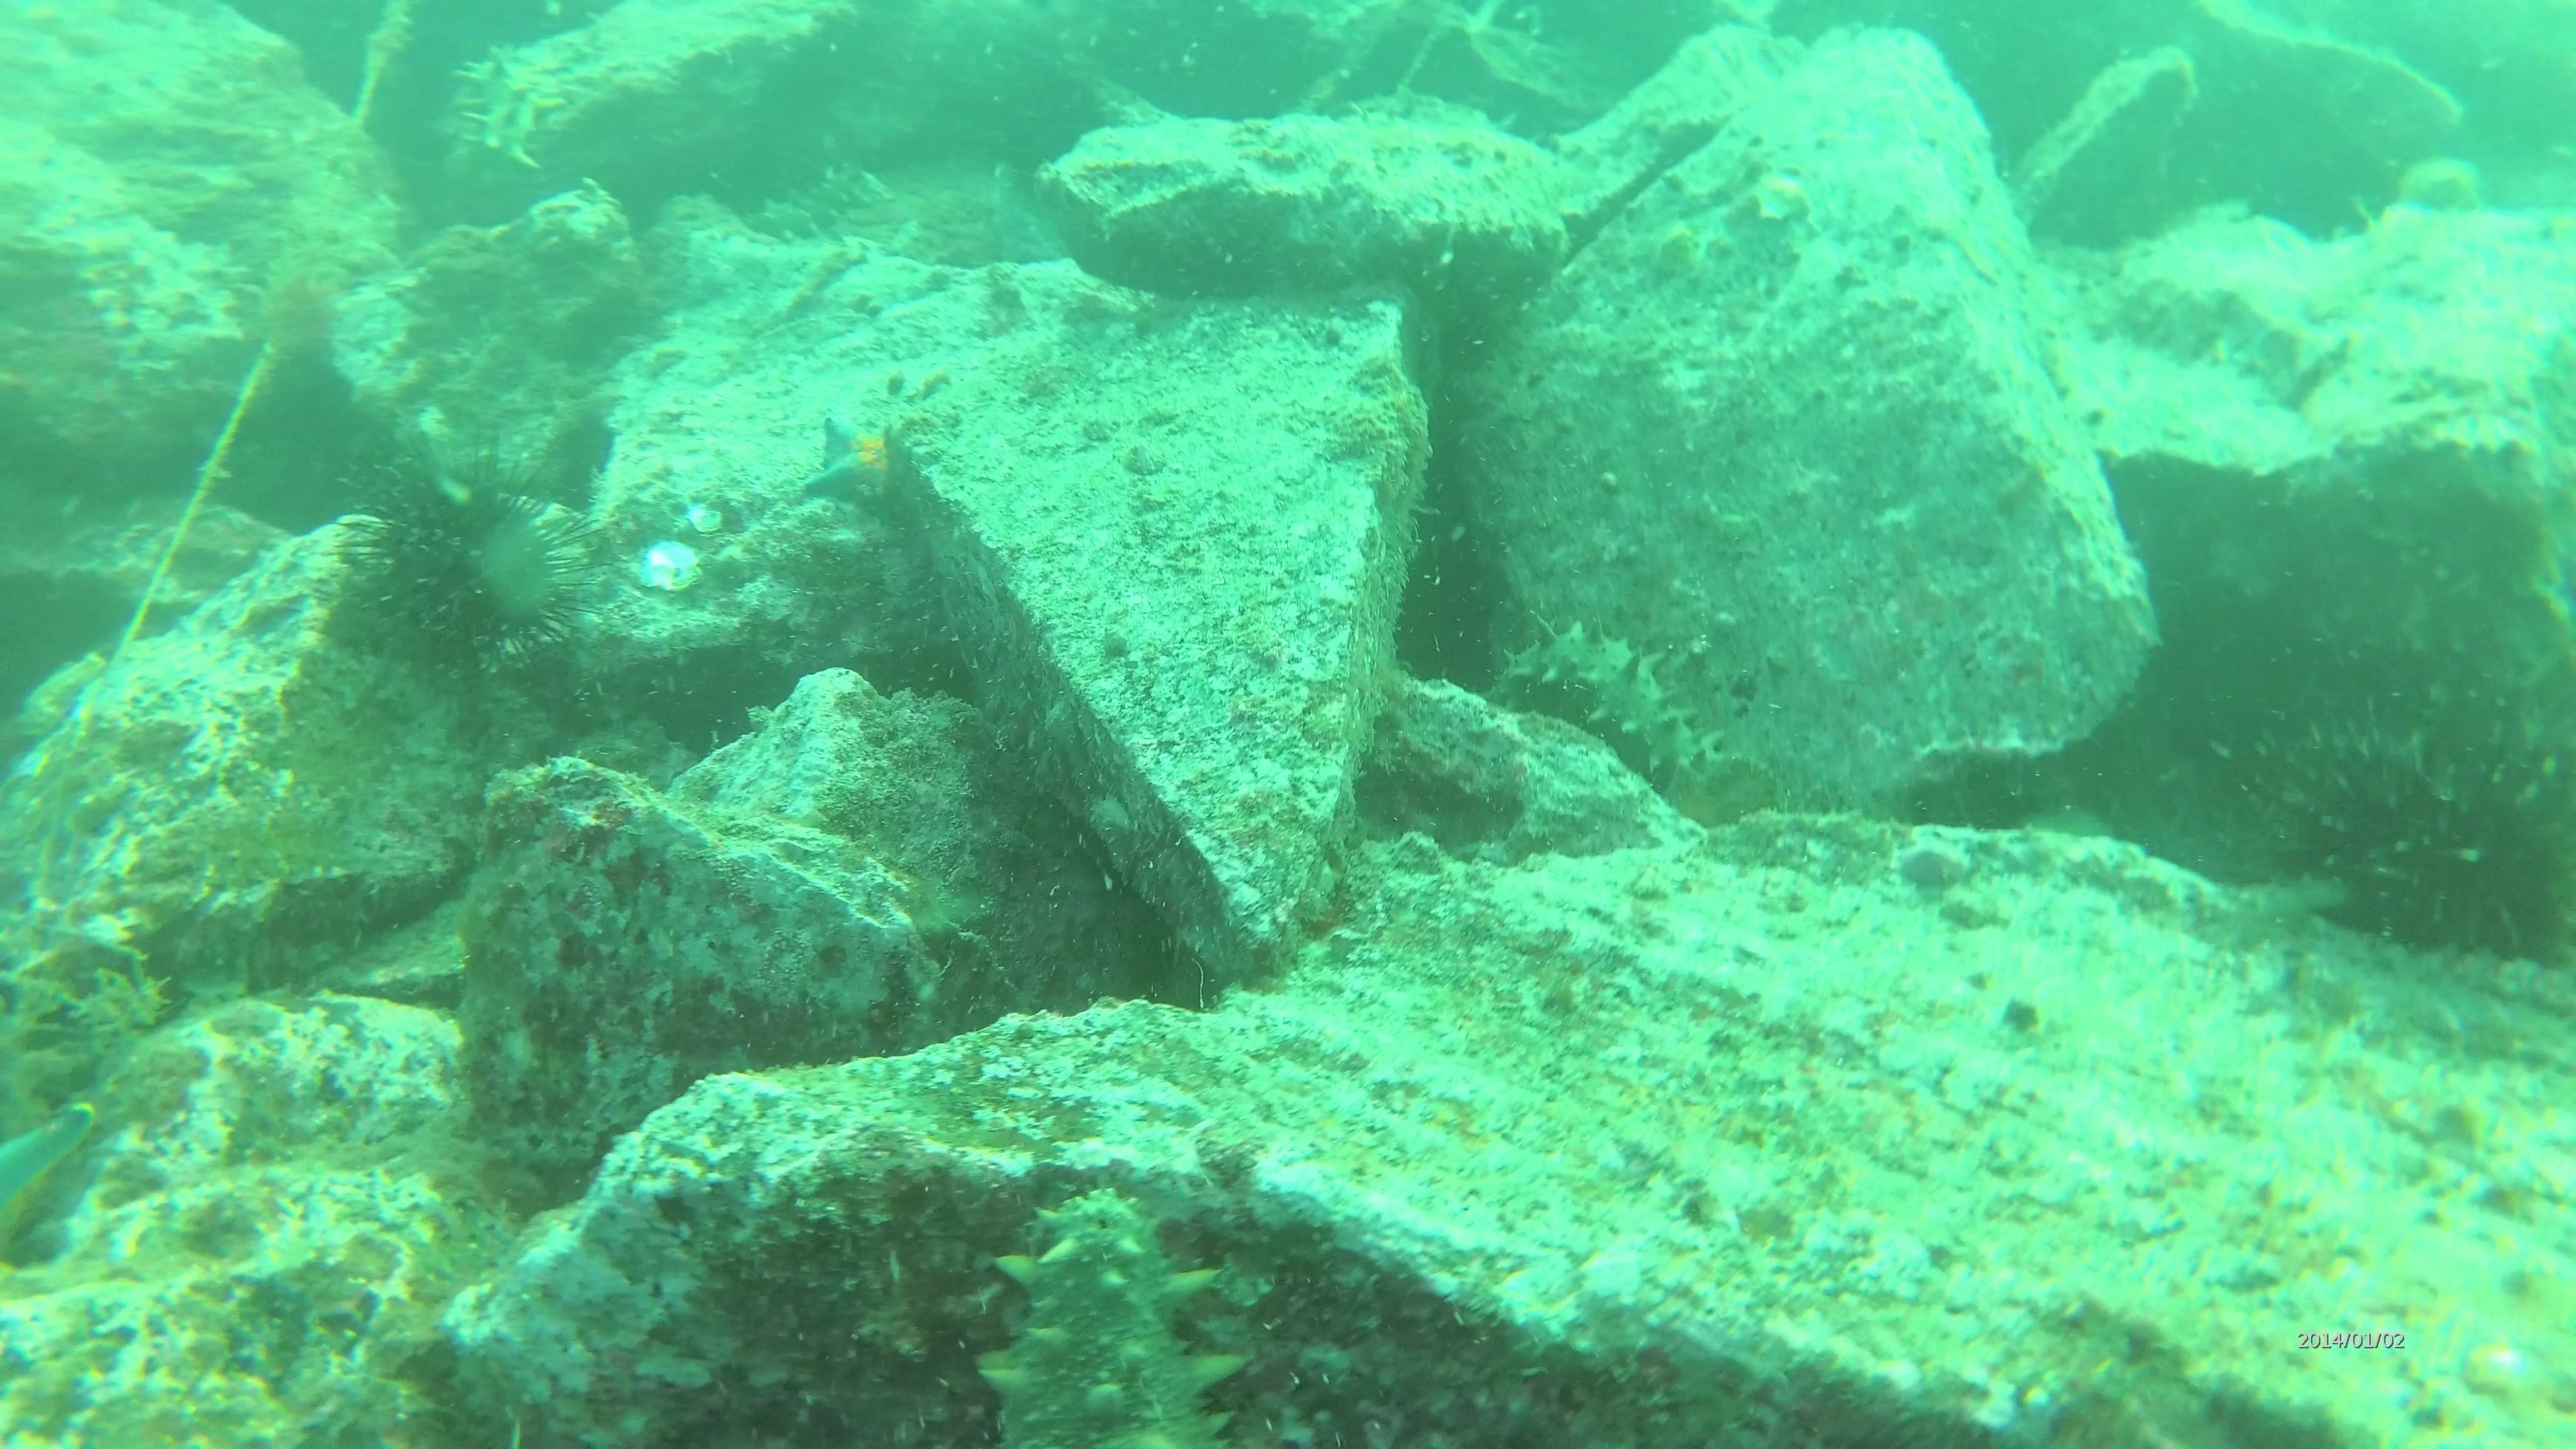echinus: (2284, 720, 2572, 970), (347, 453, 600, 686)
holothurian: (970, 1177, 1256, 1440), (1491, 610, 1729, 805), (2068, 280, 2346, 421), (441, 28, 582, 186), (747, 159, 893, 248)
starfish: (0, 1100, 106, 1269), (798, 407, 922, 518)
